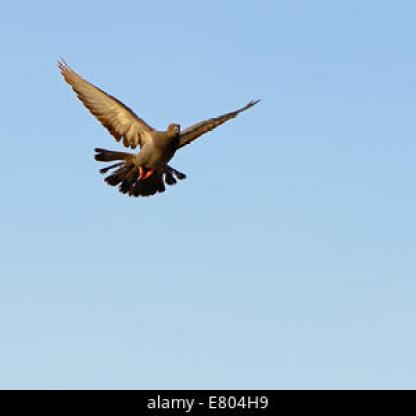Rock Pigeon: (65, 65, 251, 199)
